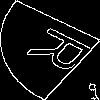R: (25, 24, 100, 81)
